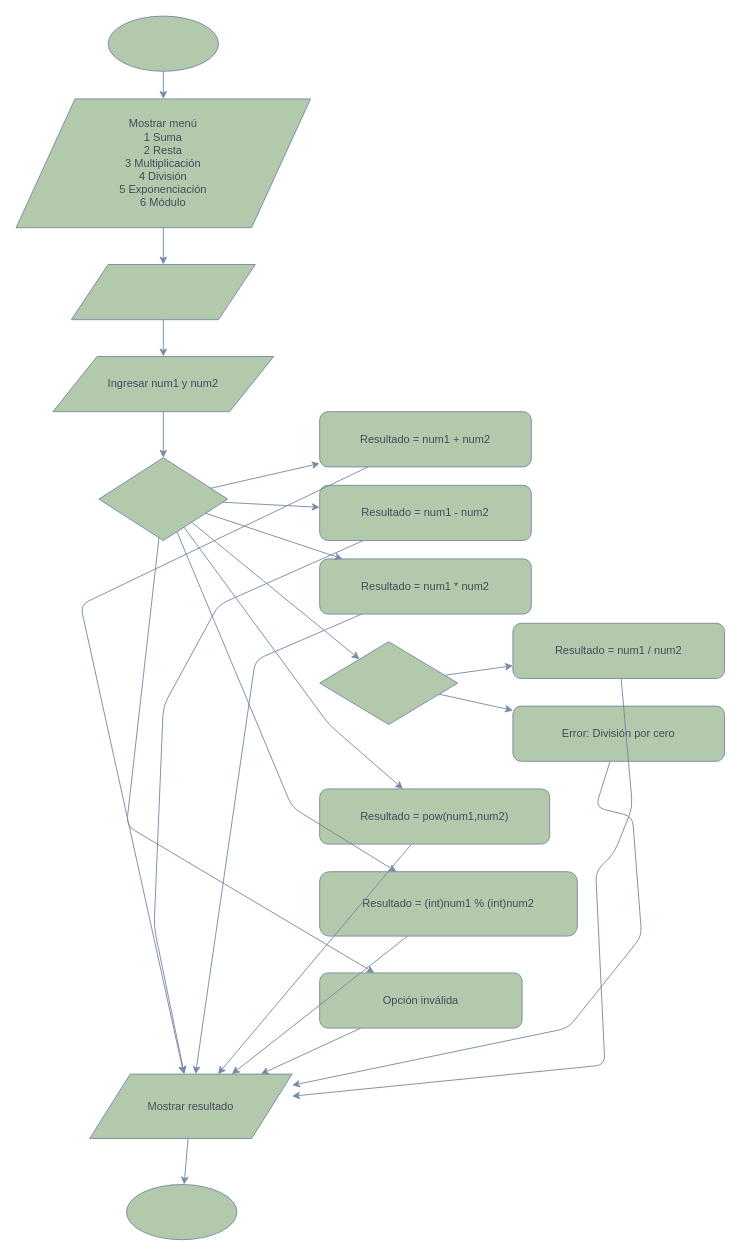
The diagram is 741 pixels wide and 1256 high, and some of its shapes have lost their labels. The shapes that lost their labels are listed below. From the top down, each one's centre as x and y in pixels, then its label:
the point at 162,43: INICIO
the point at 162,292: Ingresar opción
the point at 163,498: ¿Opción?
the point at 388,682: ¿num2 ≠ 0?
the point at 181,1212: FINAL
